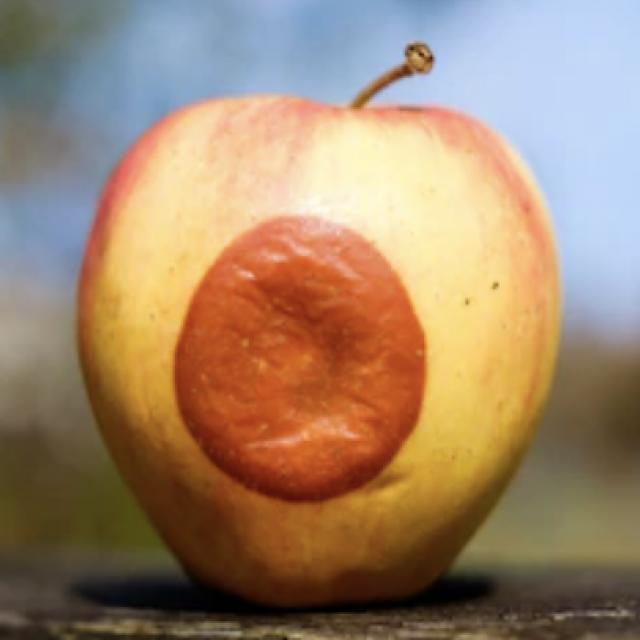Rotten: (75, 110, 592, 603)
